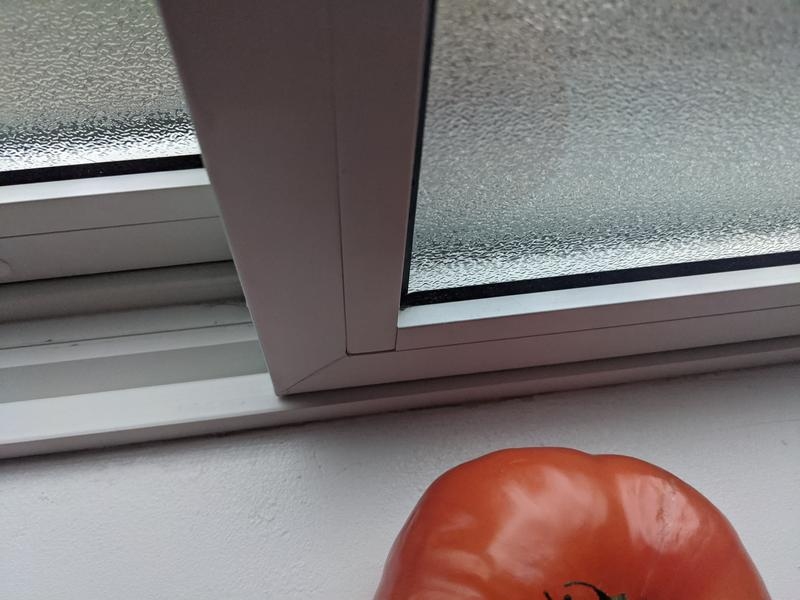tomato: (367, 445, 772, 600)
